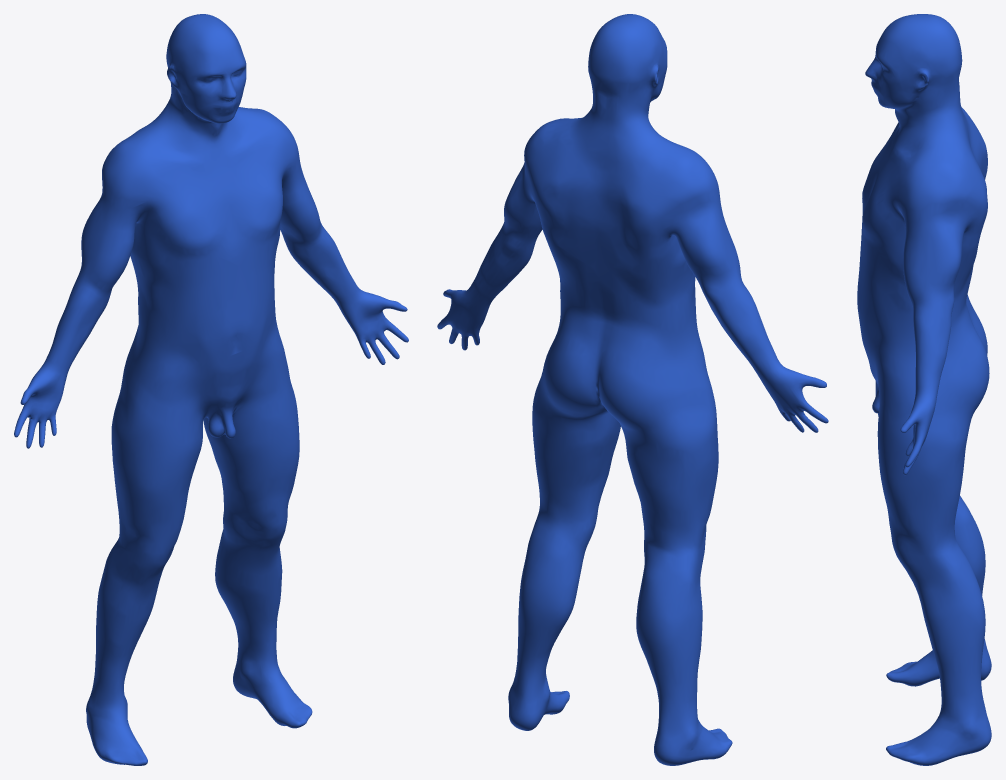
The model's file is vh_m_skin.glb.
3 views of the same model, side by side, from view 1: azimuth 30°, elevation 25°; view 2: azimuth 150°, elevation 25°; view 3: azimuth 270°, elevation 25° (orthographic). The views are drawn at different scales.
Visible parts, largest first — view 1: VH_M_skin; view 2: VH_M_skin; view 3: VH_M_skin.
Part boxes in pixels (bbox=[...]): VH_M_skin: bbox=[14, 14, 408, 765]; VH_M_skin: bbox=[437, 14, 828, 765]; VH_M_skin: bbox=[857, 14, 991, 765].
Bounding box in the file's own units: 1.05 × 1.83 × 0.3163.
